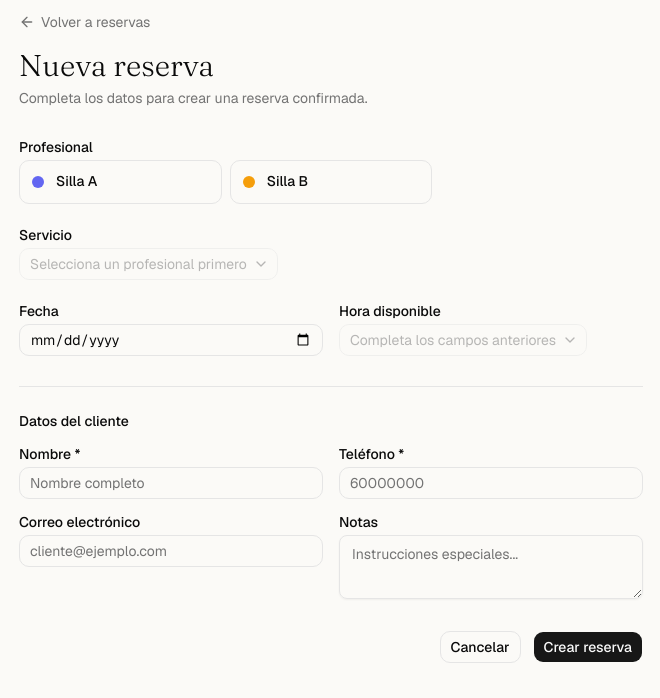
Test: NewBookingForm — validación › muestra error de nombre
Click the button "Crear reserva" at (588, 646), box top-left (532, 630), bottom-right (643, 662)
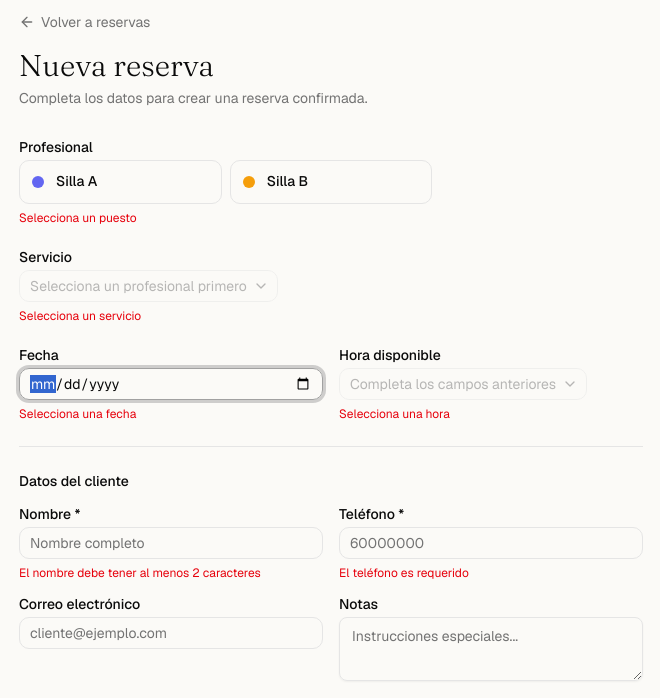
Expected: the text "El nombre debe tener al menos 2 caracteres" is shown, top-left (19, 564), bottom-right (261, 580)
